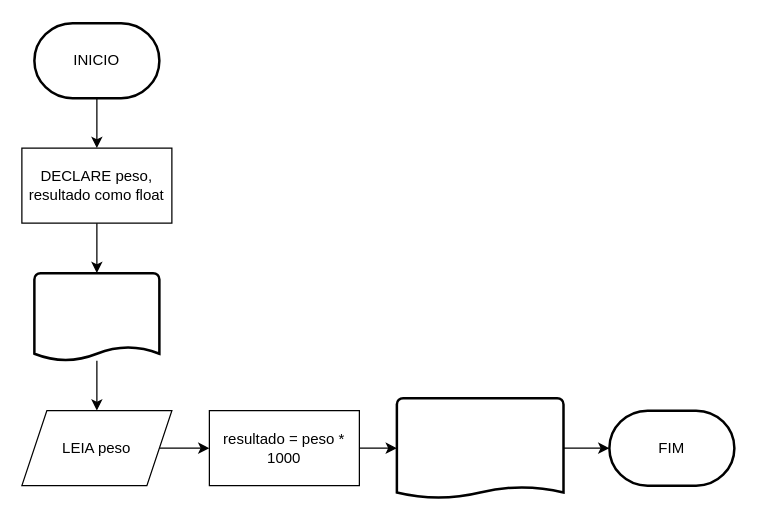
Image size: 758x520. Some labels were removed from this diagram. Here are the shapes that lost their labels. From the top down, the centre of each, then its label:
(x=96, y=316): "Escreva o seu peso em kg: "
(x=479, y=447): "Seu peso em gramas é {resultado}"
